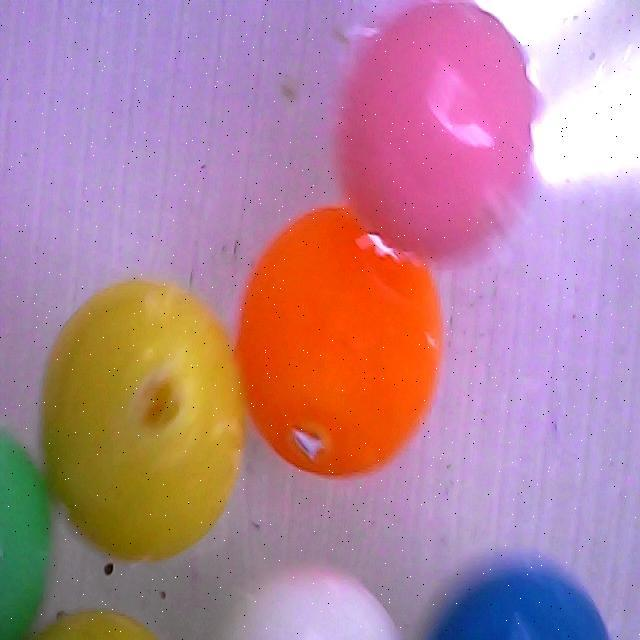beads: (217, 192, 464, 491), (40, 280, 246, 562), (331, 0, 545, 264)
